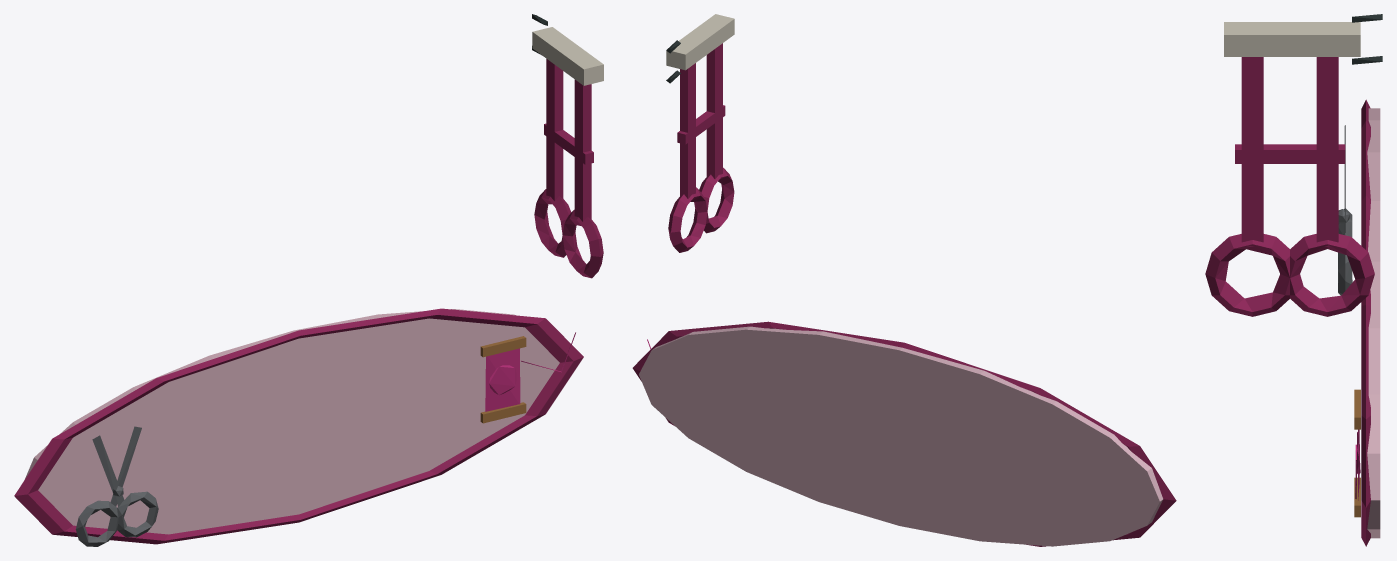
File: bang_tiem_may_hong_nhung_40.glb
3 views of the same model, side by side, from view 1: azimuth 30°, elevation 25°; view 2: azimuth 150°, elevation 25°; view 3: azimuth 270°, elevation 25° (orthographic). The views are drawn at different scales.
Parts seen in each view (by area): view 1: bang_tiem_may_hong_nhung_40; view 2: bang_tiem_may_hong_nhung_40; view 3: bang_tiem_may_hong_nhung_40.
Boxes of the visible parts, x1,y1,x2,y2 form: bang_tiem_may_hong_nhung_40: (14, 14, 603, 546); bang_tiem_may_hong_nhung_40: (632, 14, 1176, 546); bang_tiem_may_hong_nhung_40: (1205, 14, 1382, 546).
Size of the model in its own units: 3.97 by 2.96 by 0.805.
